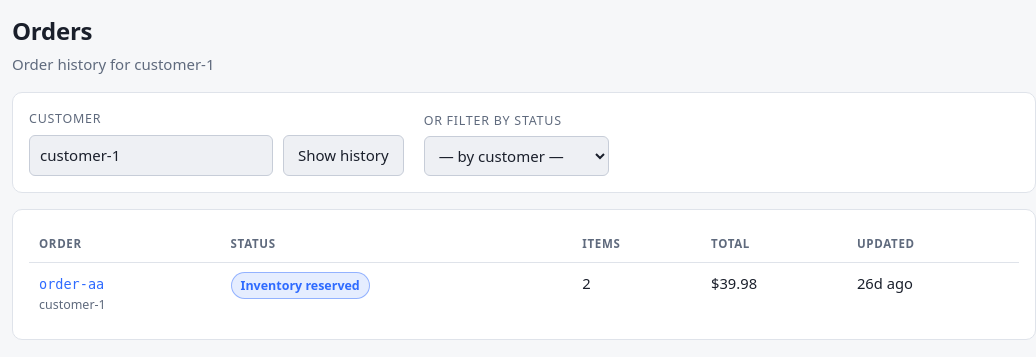
Test: OrderListPage › filters by status
The image size is (1036, 357).
Expected: the text "order-aa" is shown, [39, 276, 104, 292]
Select "Needs review" in the dropdown labelled "Or filter by status": (516, 156) [424, 136, 609, 176]
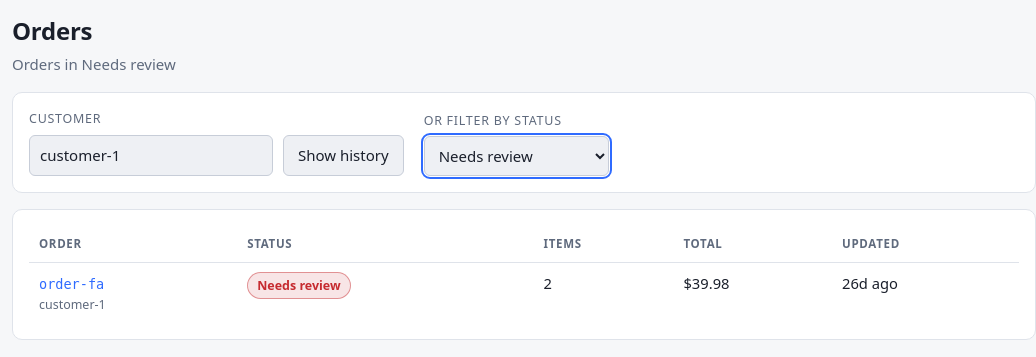
Now the text "order-fa" is shown, box [39, 276, 104, 292]
